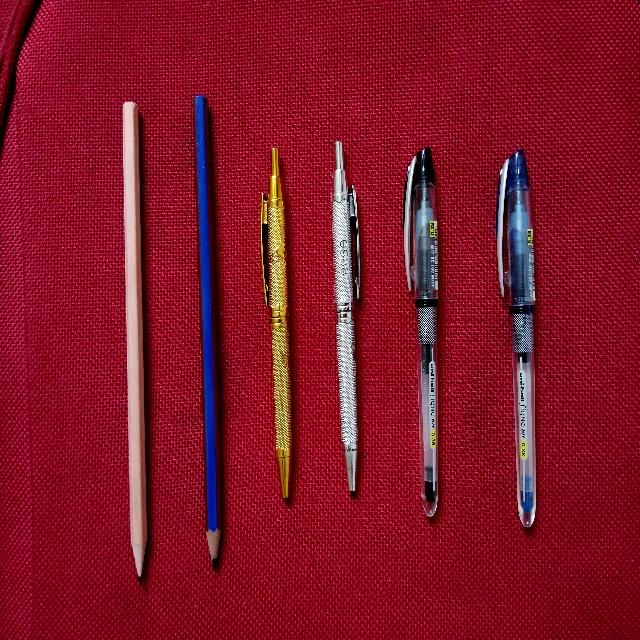pen: (496, 150, 535, 526), (404, 148, 437, 516)
pencil: (194, 95, 219, 568), (123, 102, 146, 582)
signature pen: (261, 148, 290, 498), (332, 141, 359, 491)
